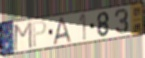1: (78, 12, 87, 43)
3: (113, 8, 130, 35)
8: (97, 11, 111, 38)
A: (53, 16, 72, 46)
M: (13, 20, 33, 52)
P: (32, 20, 48, 49)
